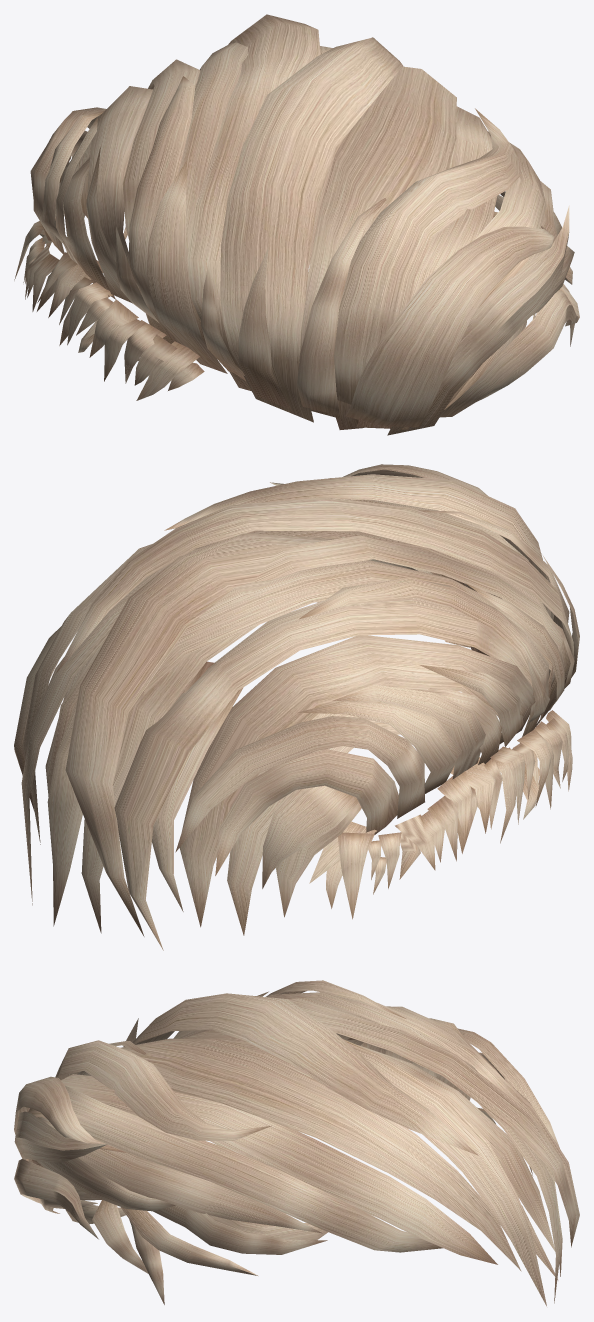
Rendered from manhair4-transformed.glb.
3 renders of one model, top to bottom at view 1: azimuth 30°, elevation 25°; view 2: azimuth 150°, elevation 25°; view 3: azimuth 270°, elevation 25°, orthographic. The views are drawn at different scales.
Visible parts, largest first — view 1: 12; view 2: 12; view 3: 12.
Part boxes in pixels (<box>): 12: <box>14,14,579,435</box>; 12: <box>14,464,579,950</box>; 12: <box>14,980,579,1306</box>.
Size of the model in its own units: 0.3579 by 0.2461 by 0.4788.
Materials: 1 (1 with a texture image).
